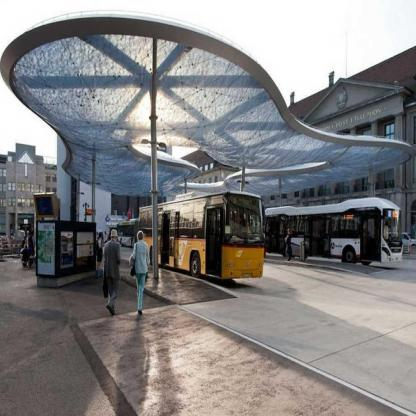Bus: (135, 191, 268, 290), (269, 200, 402, 270)
